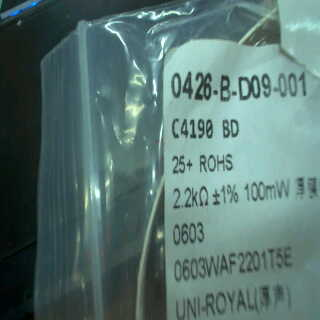2.2kR: (169, 182, 210, 215)
